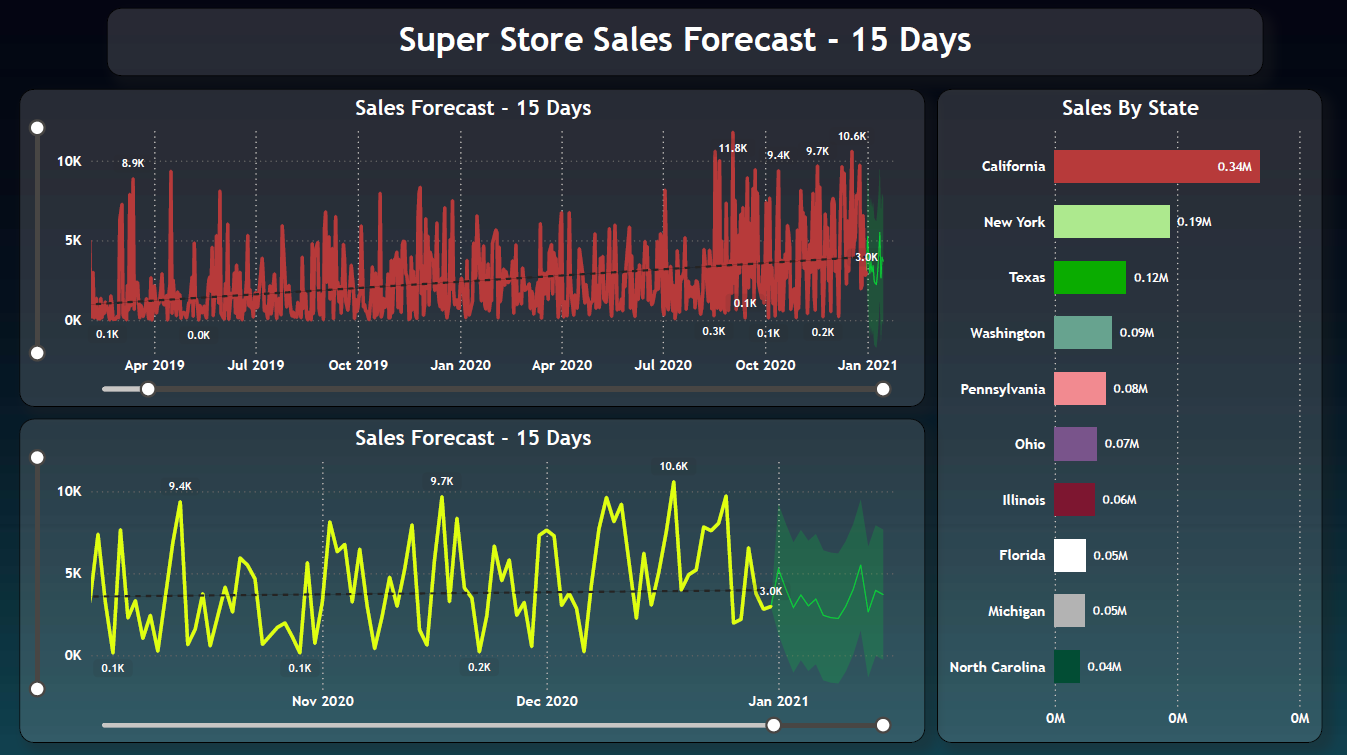

The page's visual inventory and layout, read from the dashboard file:
{"tool":"powerbi","page":{"name":"Forcasting","canvas":[1280,720],"ordinal":1},"visuals":[{"type":"lineChart","title":"Sales Forecast - 15 Days","fields":{"Category":["SalesForecast.Order Date.Variation.Date Hierarchy.Year"],"Y":["Sum(SalesForecast.Total Sales)"]},"box":[19.2,84.8,859.6,302],"z":0},{"type":"textbox","box":[102,8.1,1098,64.6],"z":1000},{"type":"clusteredBarChart","title":"Sales By State","fields":{"Y":["Sum(SuperStore_Sales_Dataset.Sales)"],"Category":["SuperStore_Sales_Dataset.State"]},"box":[889.9,84.8,365.7,621.2],"z":2000},{"type":"lineChart","title":"Sales Forecast - 15 Days","fields":{"Category":["SalesForecast.Order Date.Variation.Date Hierarchy.Year"],"Y":["Sum(SalesForecast.Total Sales)"]},"box":[19.2,398,859.6,308.1],"z":3000}]}

Visuals, with their boxes in screenshot pixels (x1, y1, x2, y2), scaled from the page's 1280x720 canvas onto the 1347x755 screenshot:
"Sales Forecast - 15 Days" lineChart: bbox=[20, 89, 925, 406]
textbox: bbox=[107, 8, 1263, 76]
"Sales By State" clusteredBarChart: bbox=[936, 89, 1321, 740]
"Sales Forecast - 15 Days" lineChart: bbox=[20, 417, 925, 740]
